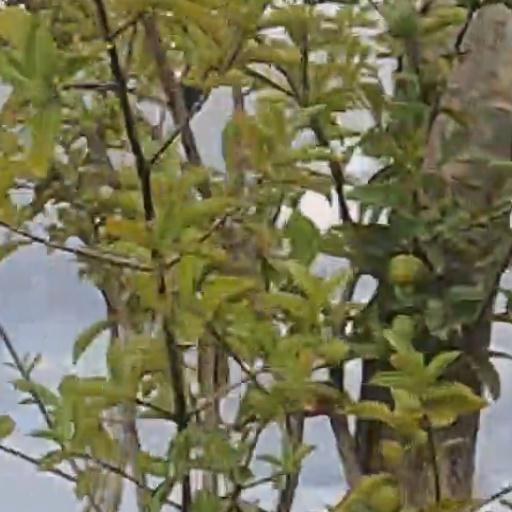acerola: (389, 255, 424, 287), (369, 485, 400, 512)
